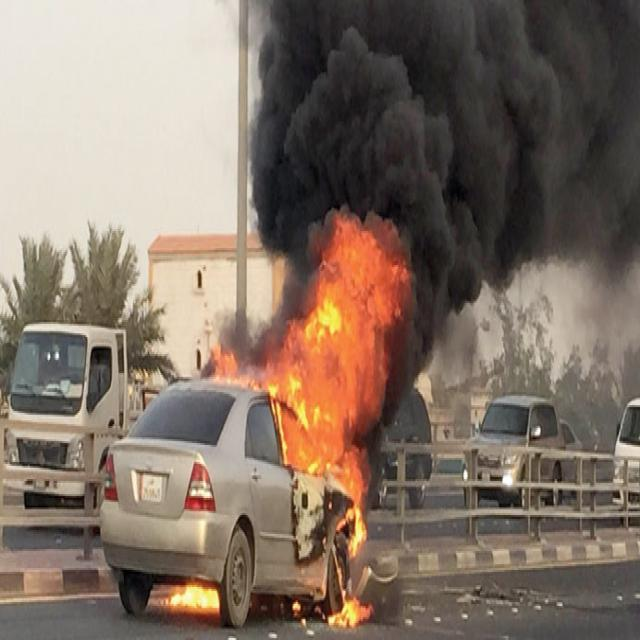Fire: (268, 206, 408, 562), (208, 334, 262, 388), (326, 591, 376, 630), (170, 584, 220, 613)
Smoke: (201, 4, 640, 510)
